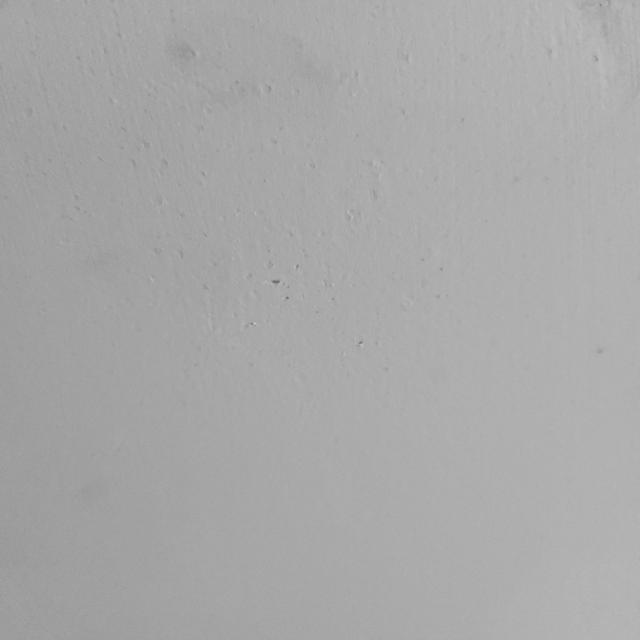rough and patchy surface: (0, 142, 443, 369), (0, 5, 611, 142)
